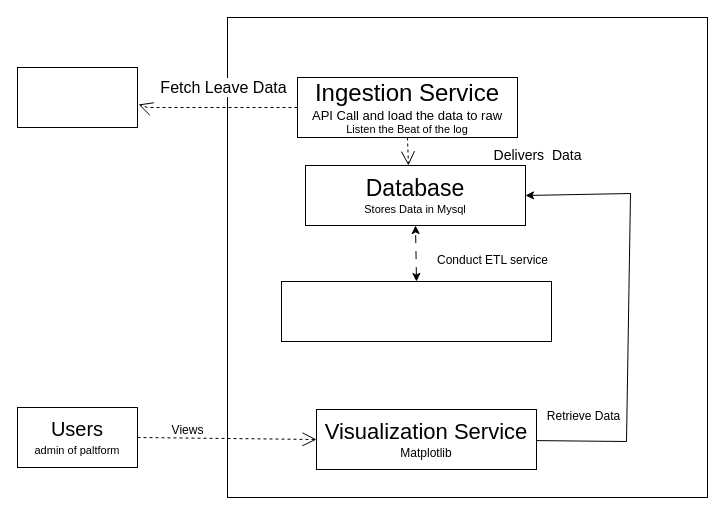
This 725x515 diagram has some shape labels left out. Each missing label, with the centre of its shape:
"Processing Service ETL process" goes at [416,311].
"Vyakuta Platform" goes at [77,97].
